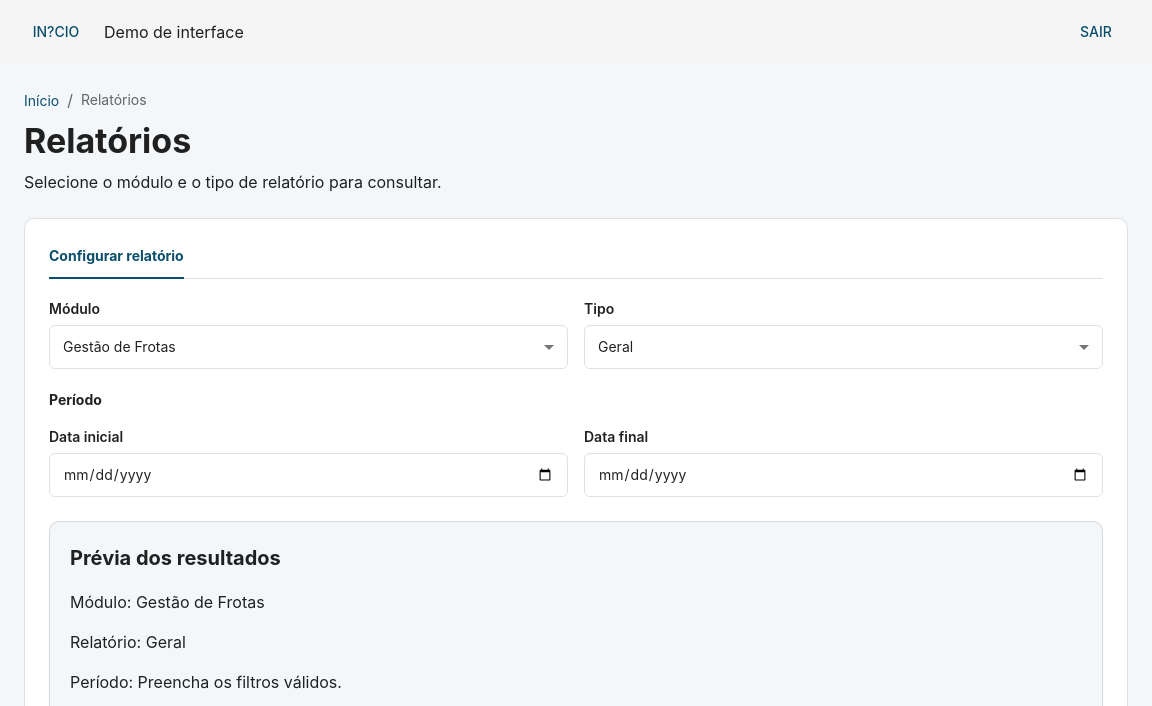
Test case: Relatórios › permite selecionar indicadores observados e atualiza a prévia
Select "Individual" in the dropdown labelled "Tipo" at (844, 347), box [584, 325, 1103, 369]
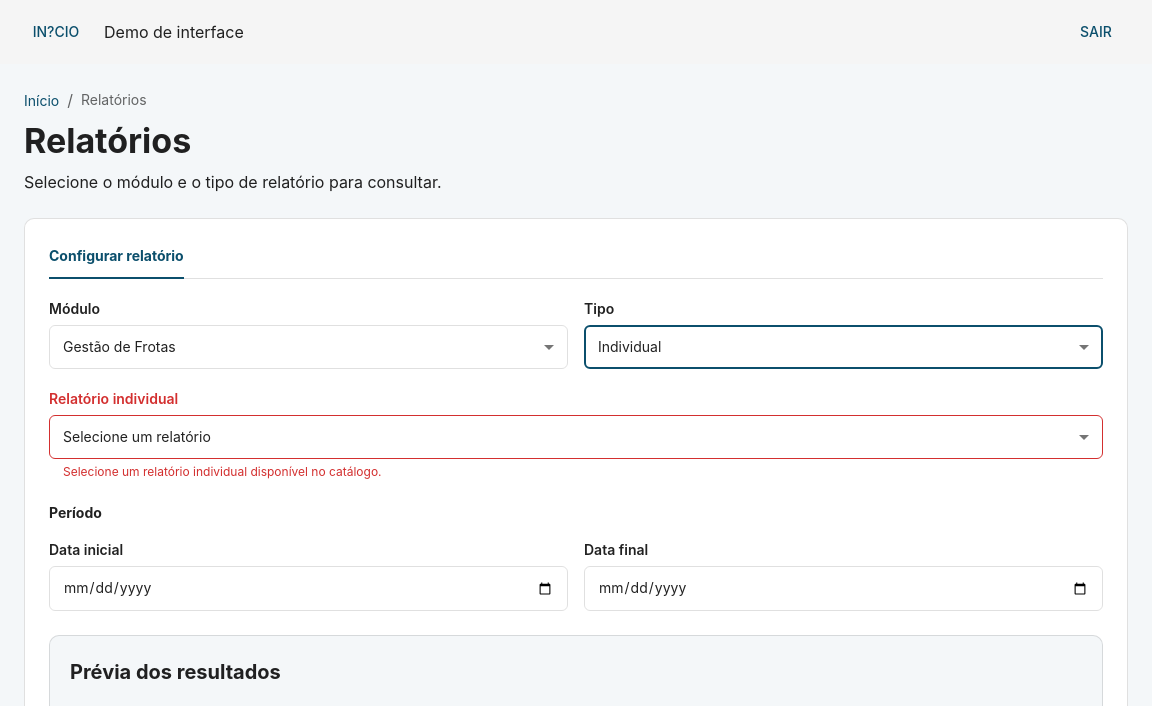
Select "Abastecimentos" in the dropdown labelled "Relatório individual" at (576, 437), box [49, 415, 1103, 459]
(page scrolled)
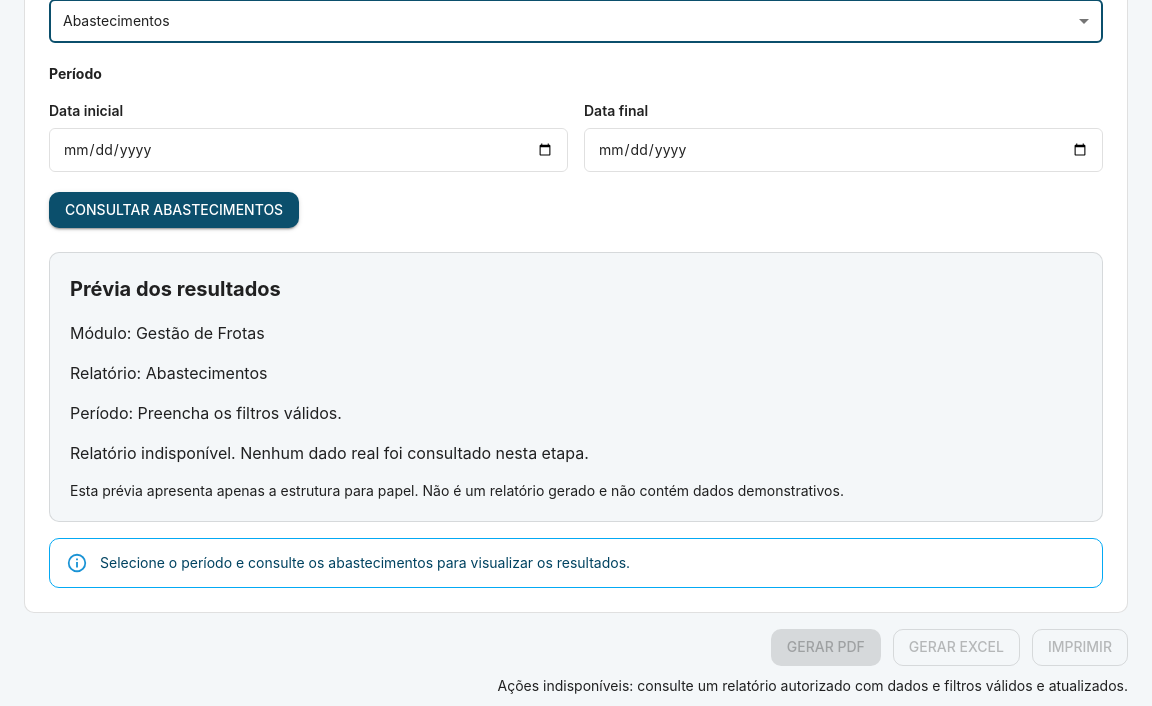
Check: the button "Gerar PDF" is disabled, box [771, 629, 881, 666]
Check: the text "Relatório: Abastecimentos" is shown, box [70, 363, 268, 383]
